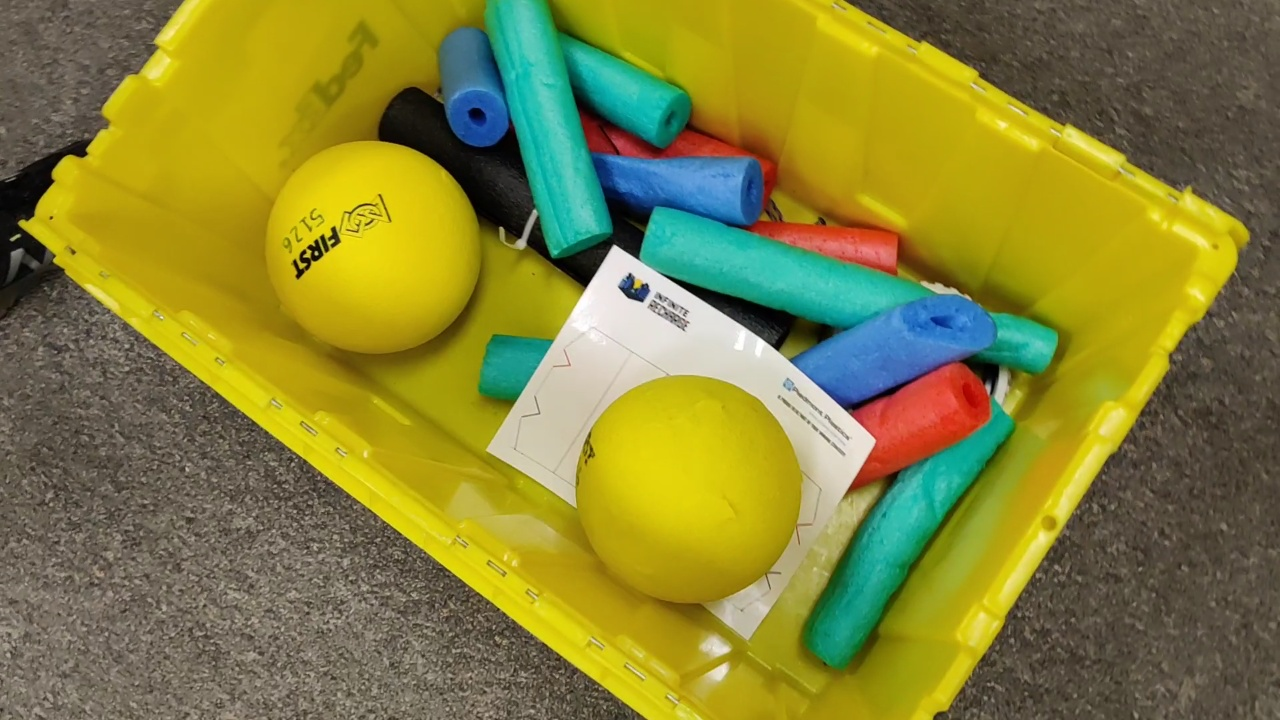Ball: (575, 375, 802, 604), (261, 140, 490, 355)
